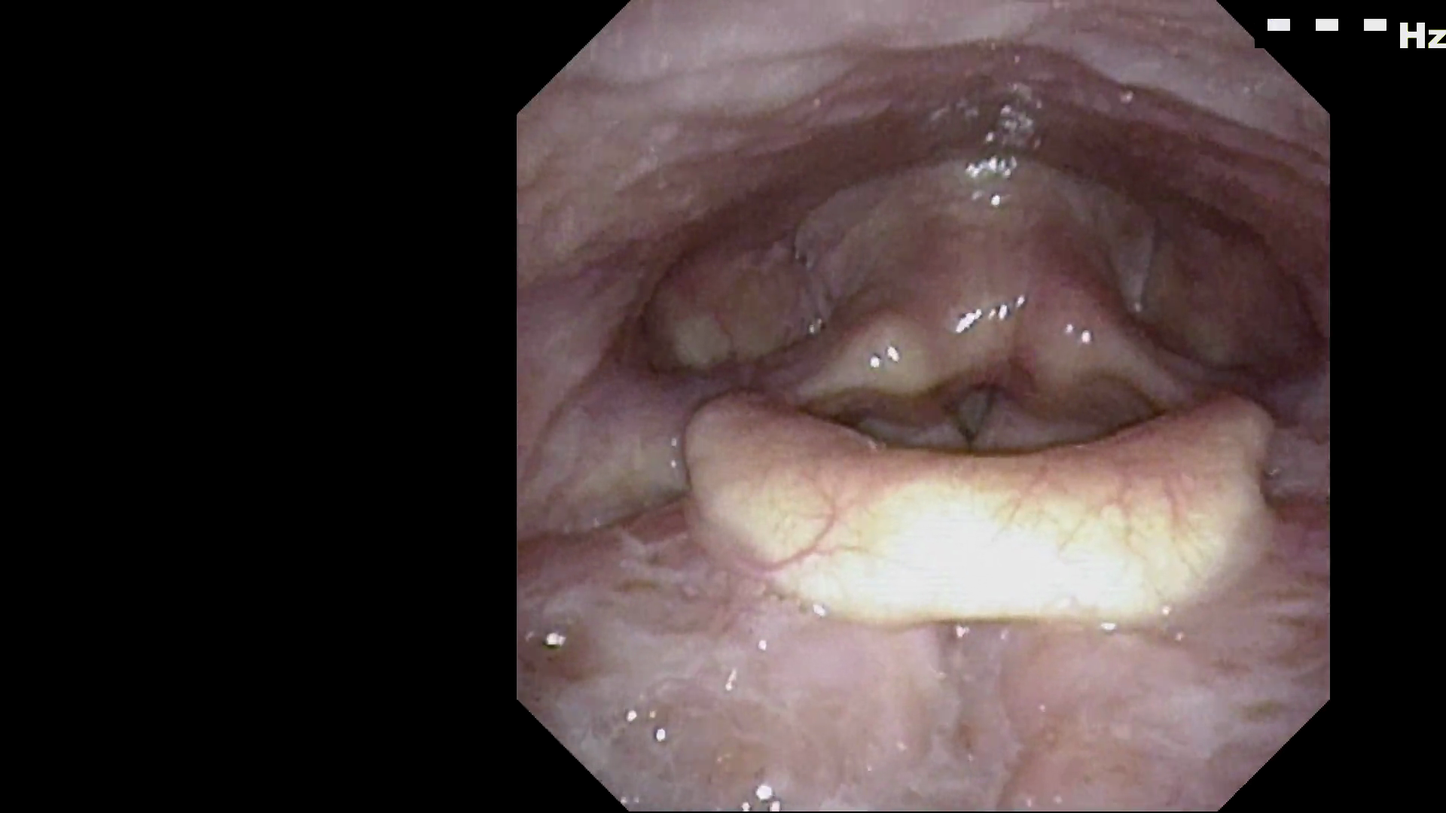epiglottis: (668, 358, 1279, 639)
trachea: (932, 363, 1014, 465)
